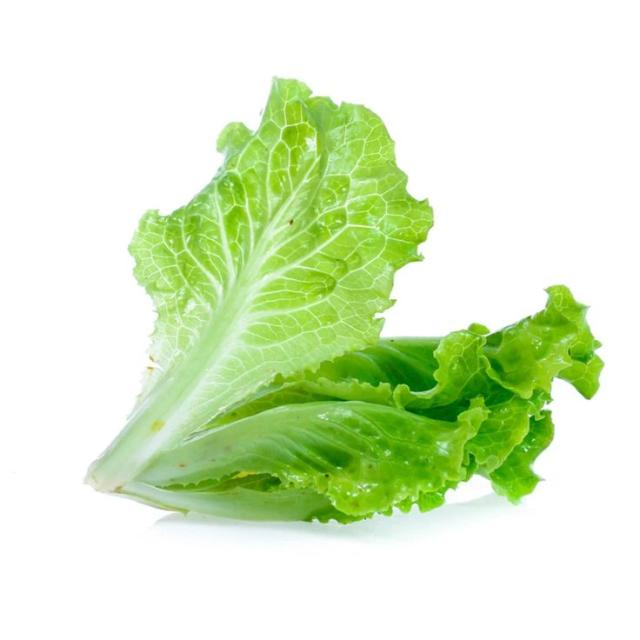lettuce: (88, 80, 601, 521)
